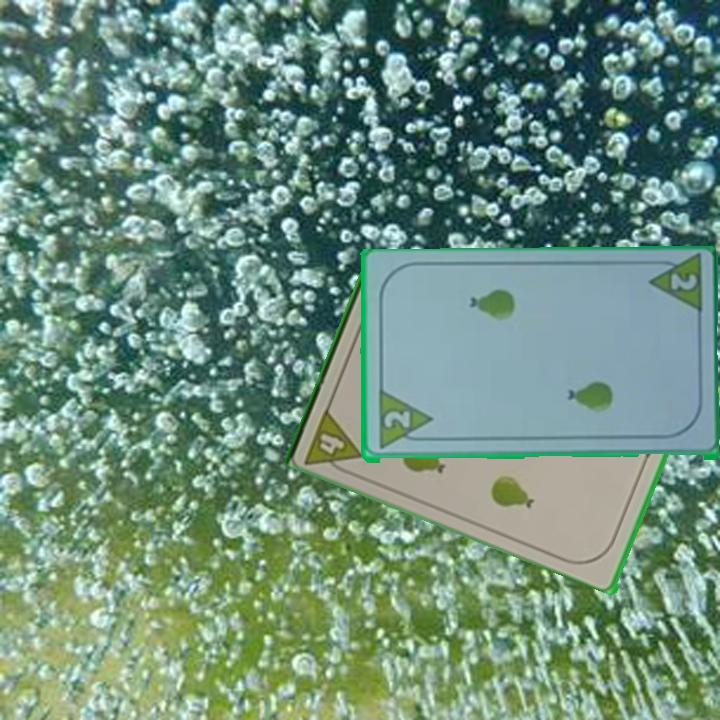2p: (643, 254, 705, 319), (380, 408, 413, 433)
4p: (301, 402, 366, 480)
